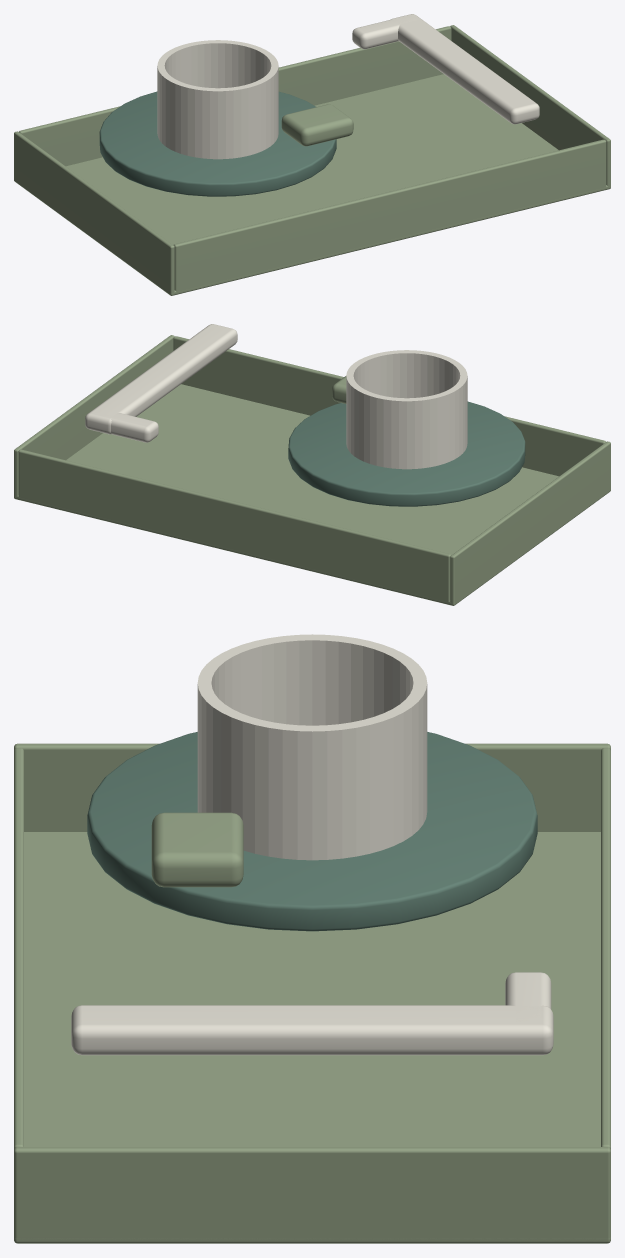
The model's file is drain-capture.glb.
3 views of the same model, one above another, from view 1: azimuth 30°, elevation 25°; view 2: azimuth 150°, elevation 25°; view 3: azimuth 270°, elevation 25° (orthographic). The views are drawn at different scales.
Visible parts, largest first — view 1: Service tray floor, Service tray front, Capture basket, Silicone drain cover, Service tray back, Service tray left, Non-sharp hair hook, Service tray right, Accessible lift tab, Hook return; view 2: Service tray floor, Service tray back, Silicone drain cover, Capture basket, Service tray front, Service tray left, Non-sharp hair hook, Service tray right, Hook return; view 3: Service tray floor, Service tray right, Capture basket, Silicone drain cover, Non-sharp hair hook, Service tray left, Accessible lift tab, Service tray back, Service tray front, Hook return.
Part boxes in pixels (bbox=[...]): Service tray floor: bbox=[14, 74, 610, 295]; Service tray front: bbox=[173, 139, 606, 292]; Capture basket: bbox=[157, 40, 278, 159]; Silicone drain cover: bbox=[99, 91, 336, 196]; Service tray back: bbox=[19, 26, 451, 166]; Service tray left: bbox=[14, 131, 174, 295]; Non-sharp hair hook: bbox=[390, 14, 539, 124]; Service tray right: bbox=[450, 25, 610, 189]; Accessible lift tab: bbox=[281, 104, 353, 146]; Hook return: bbox=[352, 15, 416, 49]; Service tray floor: bbox=[14, 384, 610, 605]; Service tray back: bbox=[18, 449, 451, 603]; Silicone drain cover: bbox=[288, 401, 525, 506]; Capture basket: bbox=[346, 350, 467, 469]; Service tray front: bbox=[173, 336, 605, 476]; Service tray left: bbox=[450, 441, 610, 605]; Non-sharp hair hook: bbox=[85, 324, 237, 434]; Service tray right: bbox=[14, 335, 174, 498]; Hook return: bbox=[94, 412, 158, 442]; Service tray floor: bbox=[14, 832, 610, 1243]; Service tray right: bbox=[14, 1147, 610, 1241]; Capture basket: bbox=[197, 634, 427, 860]; Silicone drain cover: bbox=[87, 732, 537, 931]; Non-sharp hair hook: bbox=[71, 1005, 553, 1055]; Service tray left: bbox=[14, 743, 610, 831]; Accessible lift tab: bbox=[151, 812, 243, 887]; Service tray back: bbox=[601, 748, 610, 1149]; Service tray front: bbox=[14, 748, 23, 1149]; Hook return: bbox=[505, 972, 551, 1021].
Size of the model in its own units: 0.21 by 0.065 by 0.13.
